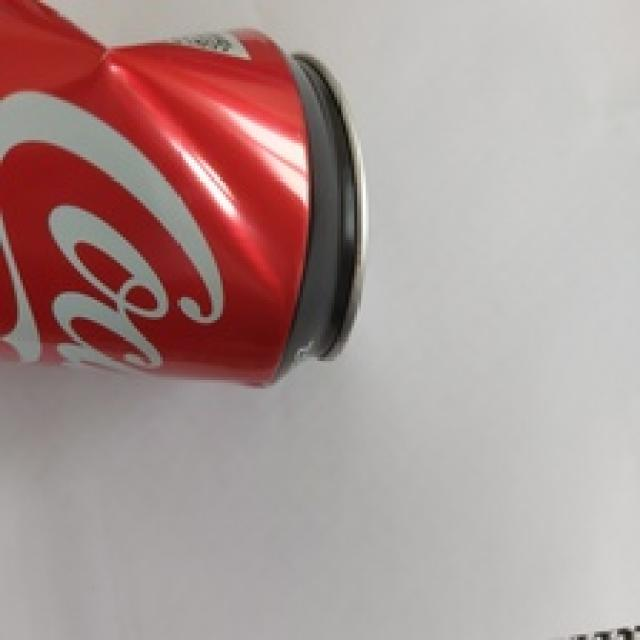recyclable: (0, 0, 367, 388)
